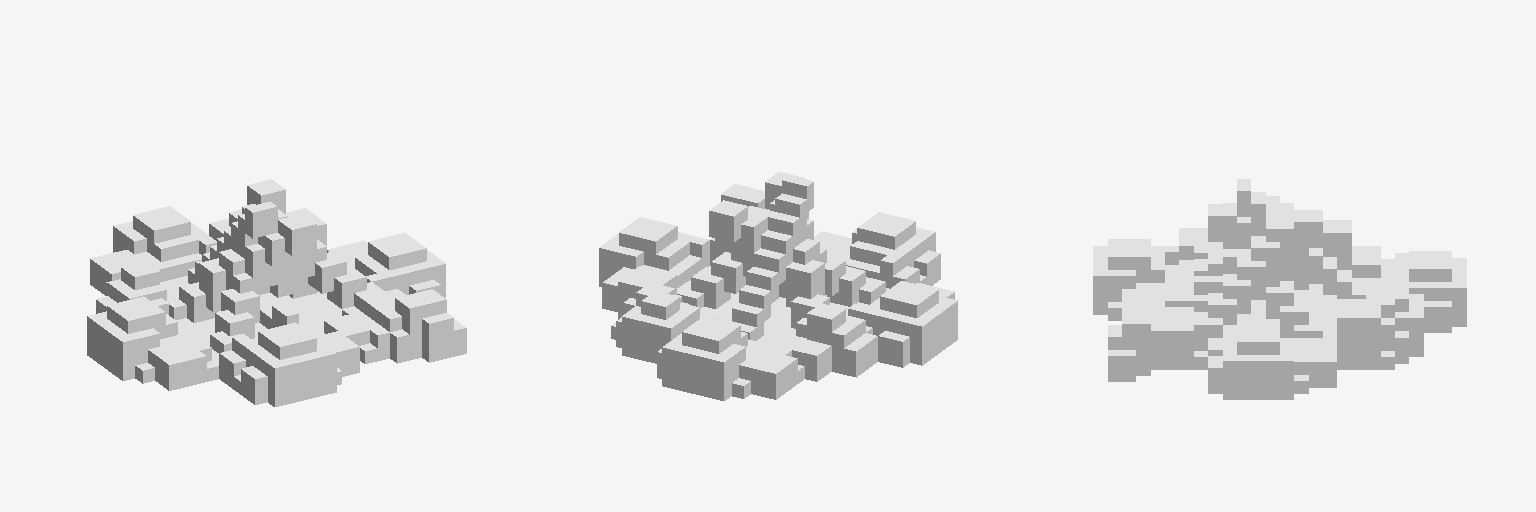
File: SkeletonLair-9.obj
3 views of the same model, side by side, from view 1: azimuth 30°, elevation 25°; view 2: azimuth 150°, elevation 25°; view 3: azimuth 270°, elevation 25° (orthographic).
Visible parts, largest first — view 1: object 1; view 2: object 1; view 3: object 1.
Part boxes in pixels (x1,y1,x2,y2): object 1: (87,179,466,406); object 1: (599,172,957,400); object 1: (1093,179,1466,399).
Bounding box in the file's own units: 2.6 × 1 × 2.6.